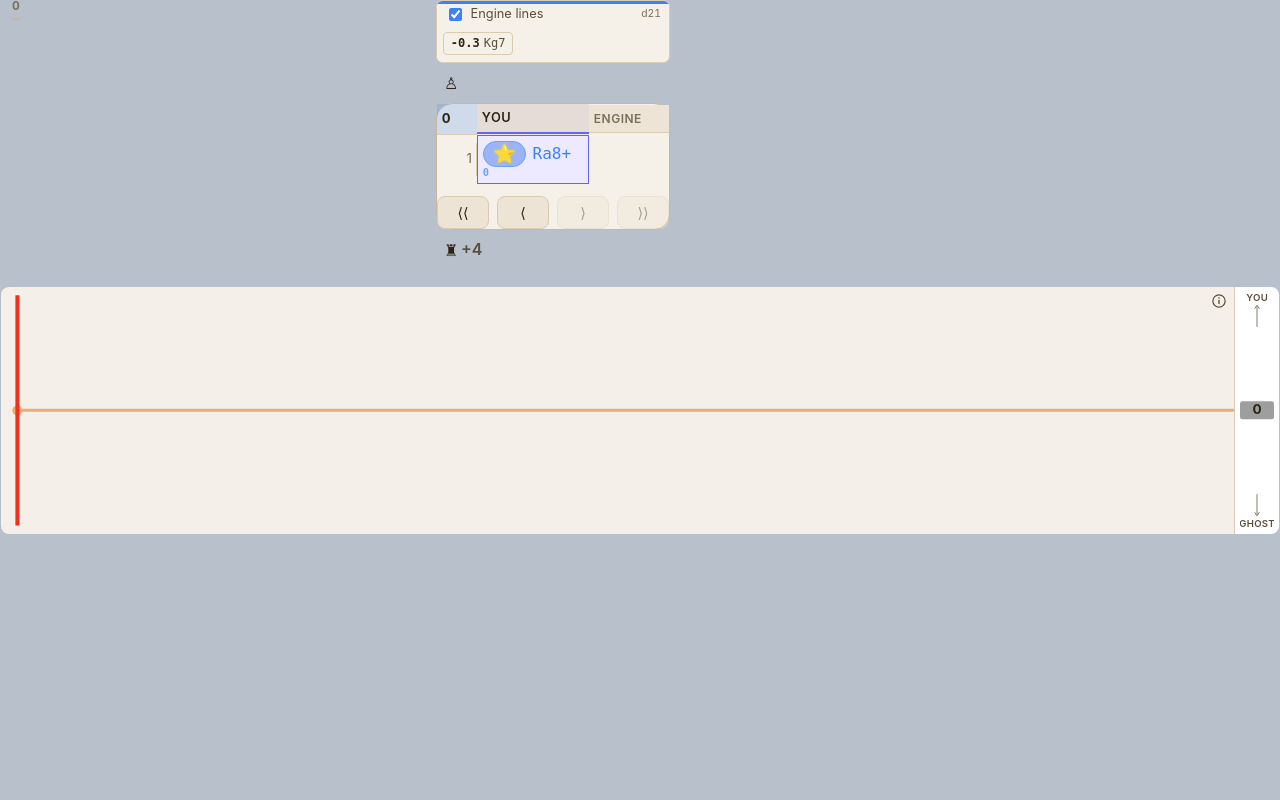
Test case: AnalysisBoard MoveList › does not mark a live line canonical when the trusted best is the only legal move (g-54h5)
The image size is (1280, 800).
Expected: the text with class "analysis-board__engine-pv" reads "Kg7", x1=484 y1=36 x2=505 y2=50
Click the button with aria-label "Show engine line 1" at point(478, 44), box x1=443 y1=32 x2=513 y2=55
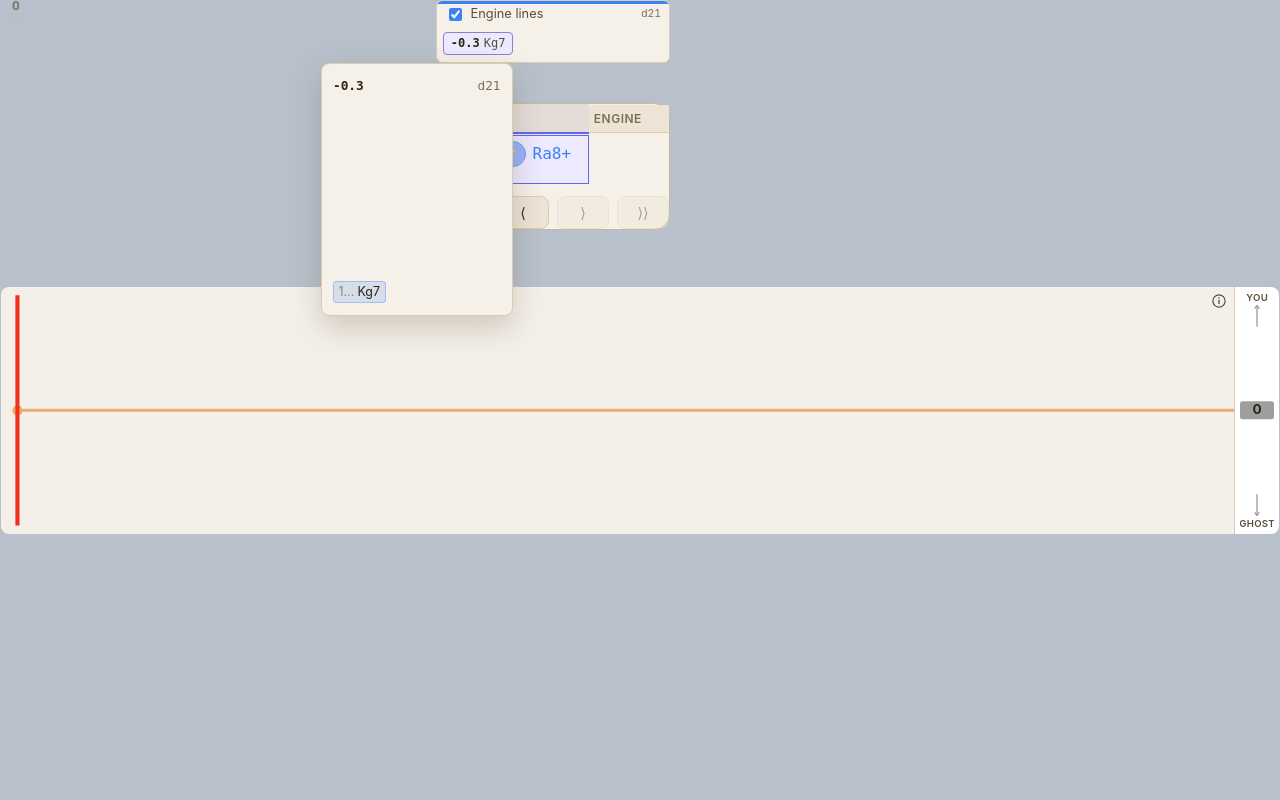
Expected: the dialog named "Engine line preview" does not show "Canonical", x1=321 y1=63 x2=513 y2=316
Now the dialog named "Engine line preview" shows "d21", box x1=321 y1=63 x2=513 y2=316
